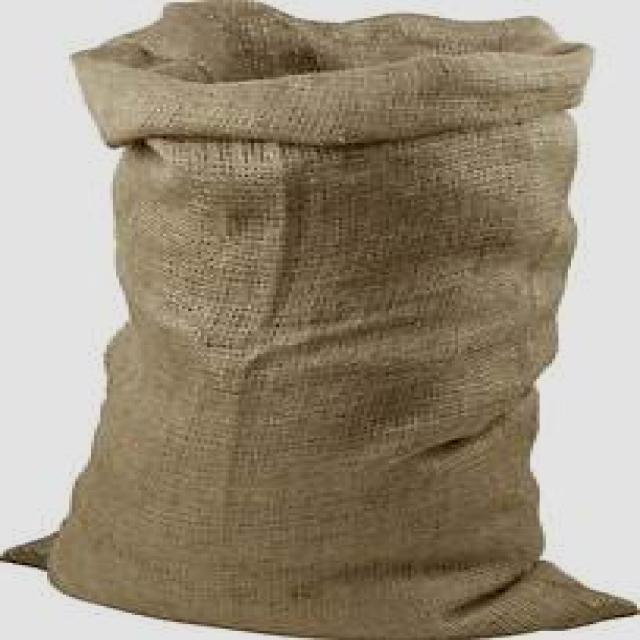gunny_bag: (4, 0, 636, 637)
